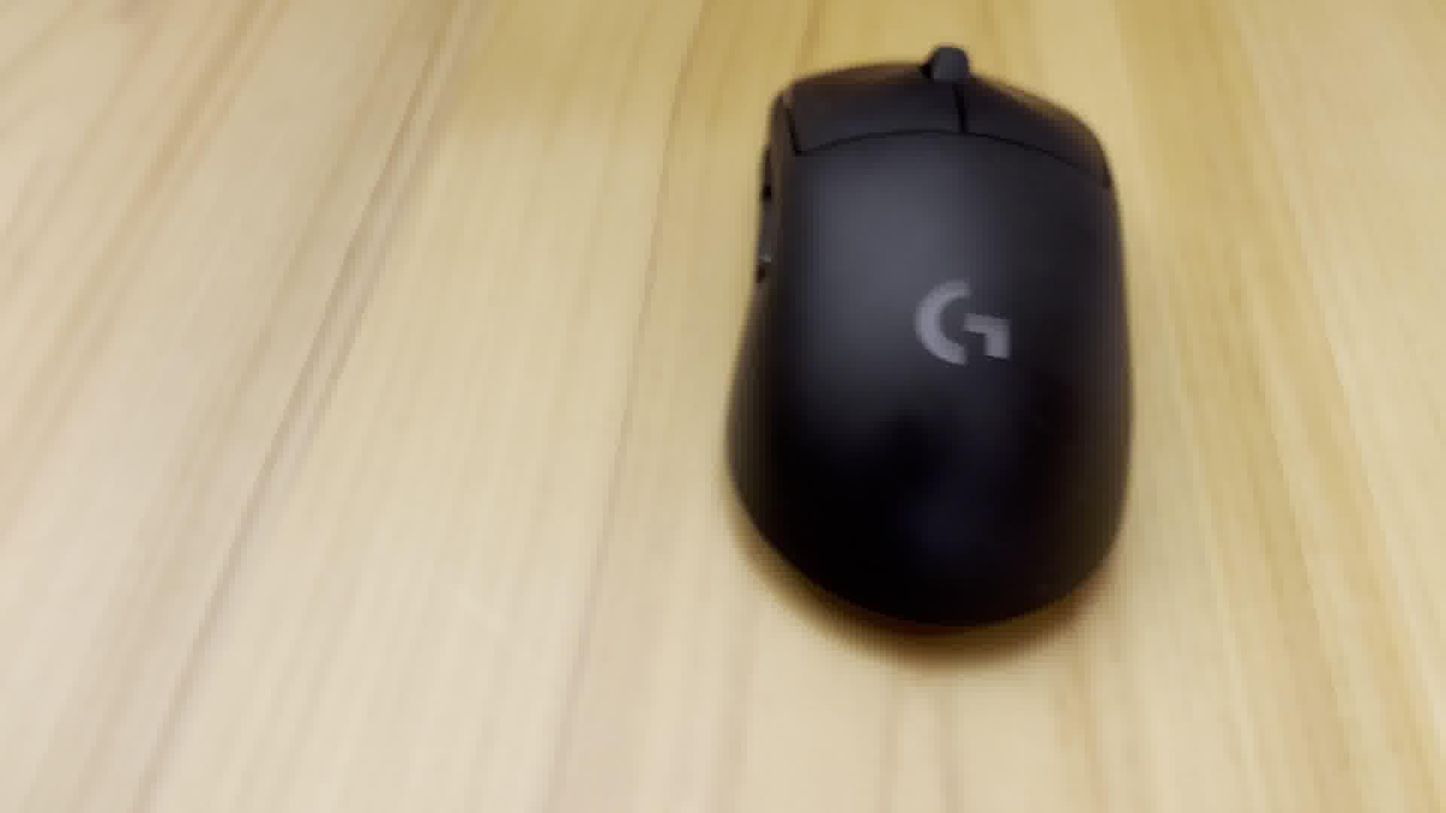mouse: (718, 35, 1141, 649)
